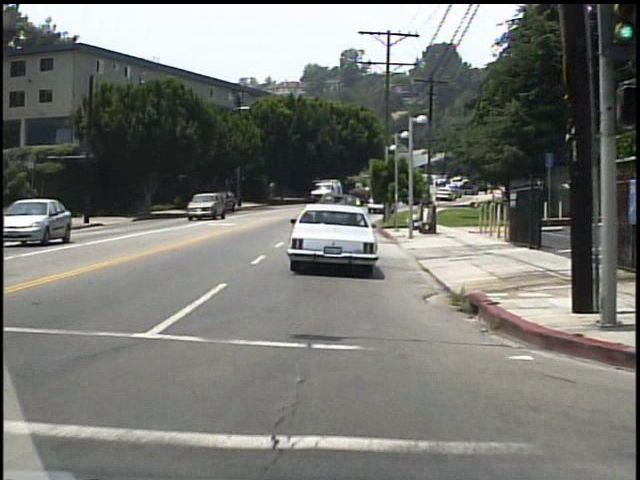person: (46, 199, 59, 228)
